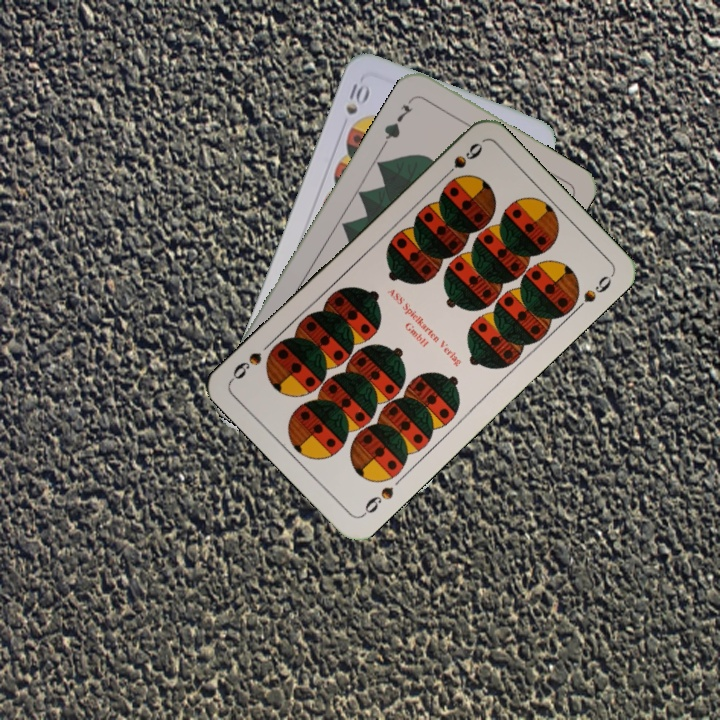G7: (380, 100, 416, 146)
S10: (341, 79, 371, 118)
S9: (437, 138, 486, 183), (358, 482, 397, 519)
